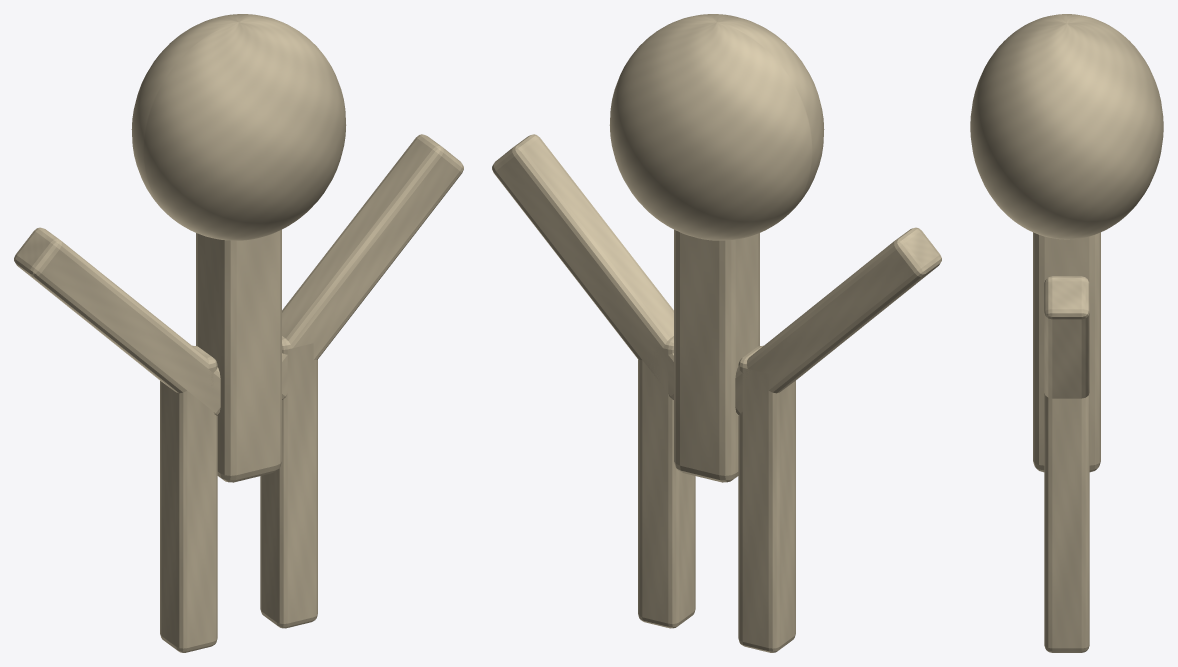
The model's file is monster_Skeleton.glb.
3 views of the same model, side by side, from view 1: azimuth 30°, elevation 25°; view 2: azimuth 150°, elevation 25°; view 3: azimuth 270°, elevation 25° (orthographic).
Parts seen in each view (by area): view 1: Skull, Spine, Leg, Arm.001, Leg.001, Arm; view 2: Skull, Spine, Leg, Arm.001, Leg.001, Arm; view 3: Skull, Leg.001, Spine, Arm.001.
Part boxes in pixels (box(x1,y1,x2,y2)): Skull: box(131, 14, 346, 240); Spine: box(196, 229, 281, 482); Leg: box(160, 345, 217, 652); Arm.001: box(282, 134, 463, 399); Leg.001: box(260, 336, 317, 628); Arm: box(14, 227, 220, 415); Skull: box(609, 14, 824, 240); Spine: box(674, 229, 759, 482); Leg: box(738, 345, 795, 652); Arm.001: box(492, 134, 673, 399); Leg.001: box(638, 336, 695, 628); Arm: box(735, 227, 941, 415); Skull: box(970, 14, 1163, 239); Leg.001: box(1044, 393, 1089, 652); Spine: box(1033, 232, 1100, 472); Arm.001: box(1044, 276, 1089, 398).
Bounding box in the file's own units: 1.72 × 2.32 × 0.68.
Materials: 1 (1 with a texture image).
